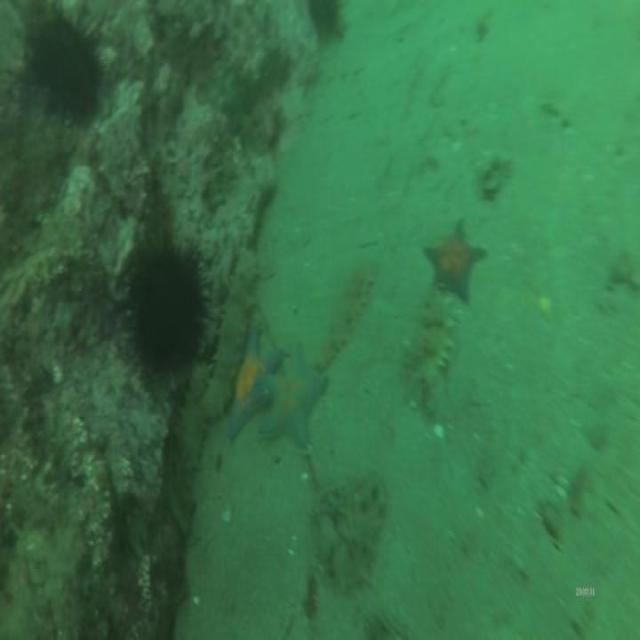echinus: (130, 256, 202, 371), (34, 26, 100, 119), (308, 2, 342, 38)
holothurian: (208, 251, 258, 427), (331, 266, 372, 358), (412, 317, 454, 393), (178, 366, 204, 464)
starfish: (262, 343, 326, 446), (228, 330, 281, 436), (422, 223, 486, 303)
